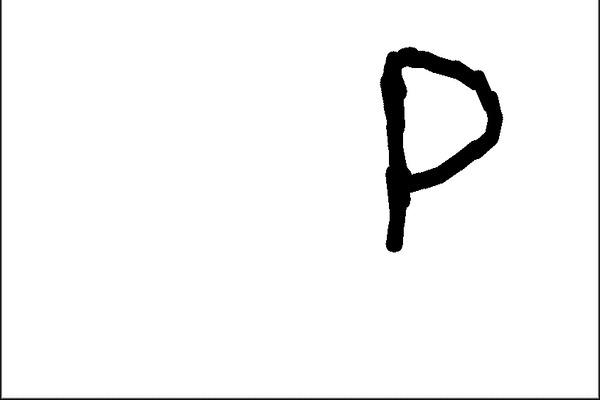P: (366, 33, 511, 258)
